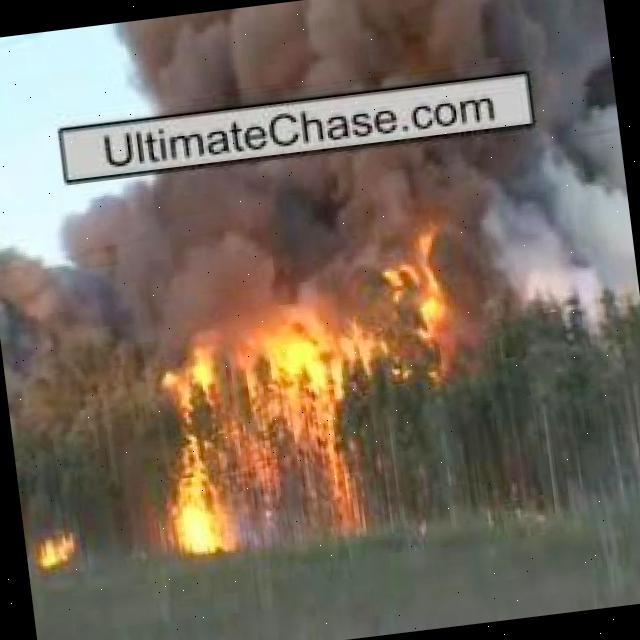fire: (149, 317, 365, 563), (388, 214, 460, 372), (40, 532, 78, 572)
